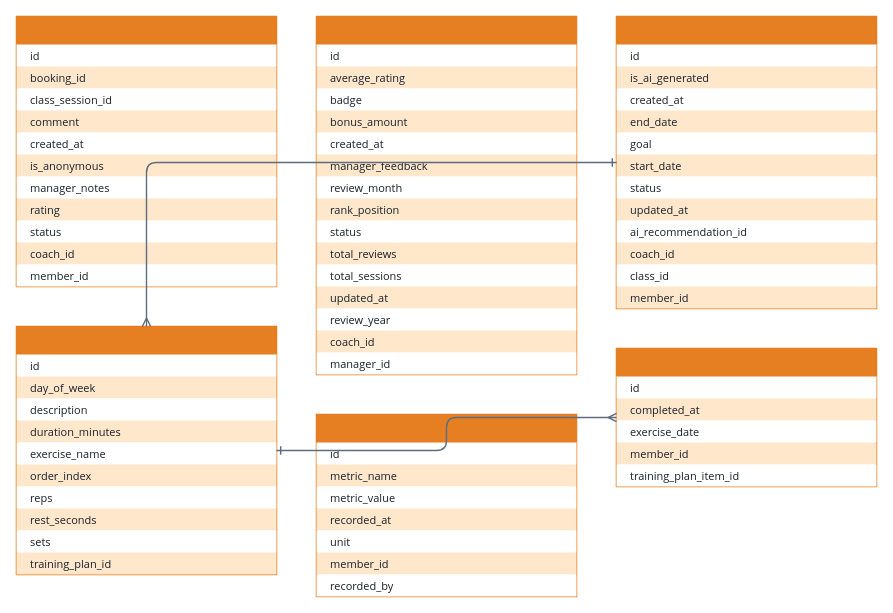
The diagram is 893 pixels wide and 613 high, and some of its shapes have lost their labels. The shapes that lost their labels are listed below. From the top down, each one's box as (x1, y1, x2, y2) in pixels, then its label:
(15, 15, 277, 287): coach_reviews
(615, 15, 877, 309): training_plans
(315, 15, 577, 375): coach_monthly_reviews
(615, 347, 877, 487): training_item_completions
(15, 325, 277, 575): training_plan_items
(315, 413, 577, 597): member_progress_logs
